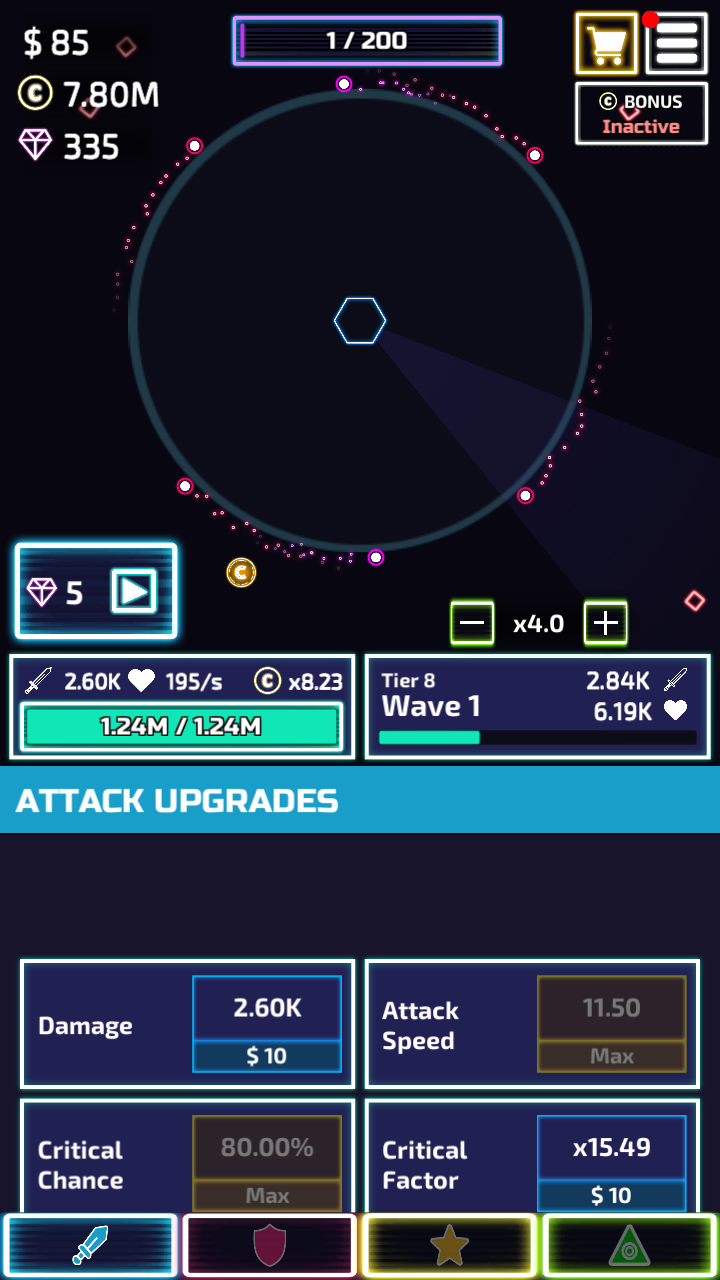B_Gem_Ad: (14, 539, 179, 639)
B_Menu_Action_Required: (638, 7, 703, 72)
B_Menu_Closed: (572, 8, 707, 75)
B_Slot: (365, 957, 700, 1088), (19, 957, 354, 1084), (363, 1097, 700, 1210), (19, 1098, 354, 1210)
B_Slot_Button: (191, 977, 338, 1074), (539, 1116, 687, 1209), (535, 982, 684, 1072), (190, 1121, 342, 1209)
B_Slot_Label: (376, 1128, 480, 1199), (374, 991, 472, 1063), (25, 1000, 146, 1052), (31, 1135, 129, 1198)
B_Slot_Maxed: (539, 975, 682, 1071), (189, 1117, 340, 1206)
B_Slot_Price: (228, 1040, 301, 1072), (584, 1173, 639, 1210)
B_Slot_Value: (558, 1129, 657, 1167), (217, 988, 310, 1027), (212, 1131, 318, 1164), (571, 994, 652, 1026)
B_Tab_Attack: (1, 766, 720, 830)
